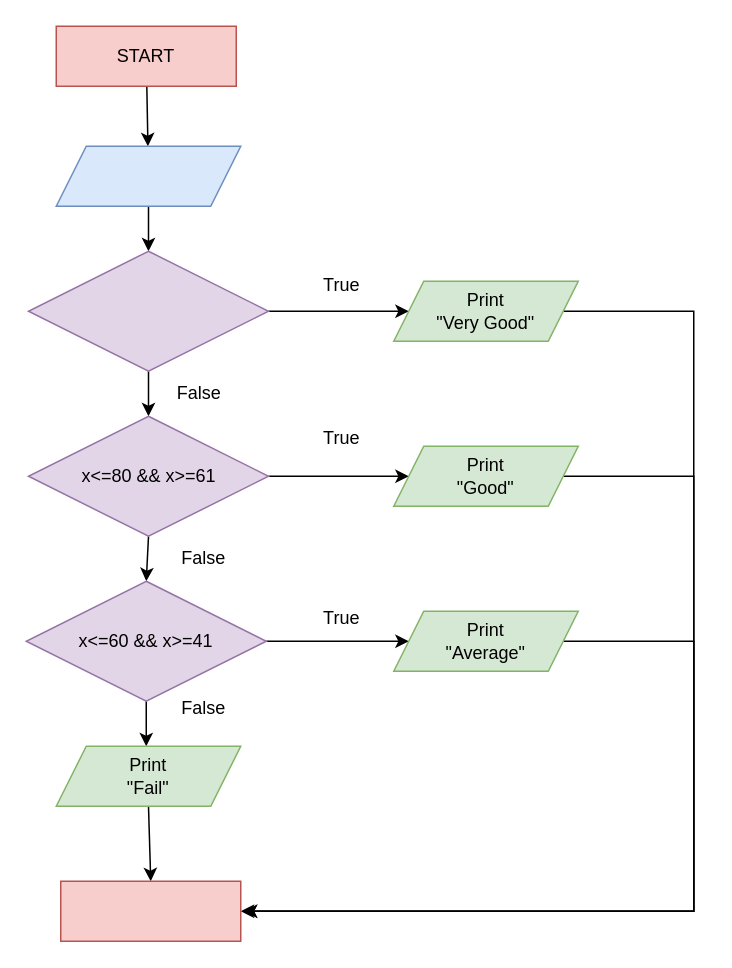
The diagram is 732 pixels wide and 968 high, and some of its shapes have lost their labels. The shapes that lost their labels are listed below. From the top down, each one's centre as x and y in pixels, then its label:
point 148,175: Input x
point 147,310: x<=100 && x>=81
point 150,910: END
